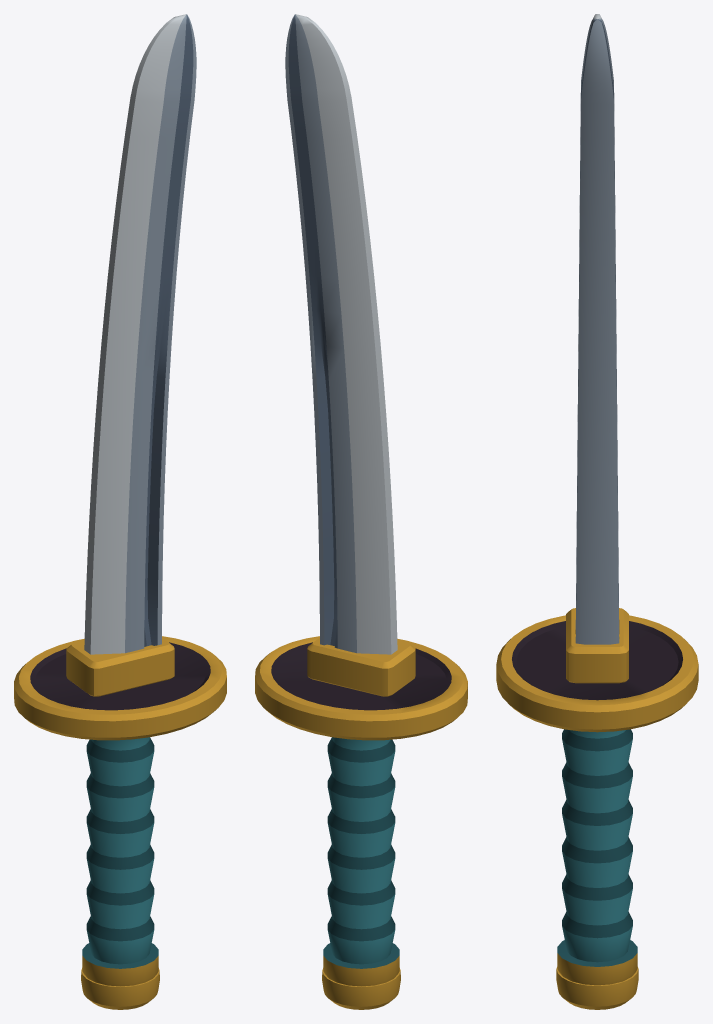
File: Katana_22.glb
The picture shows the model from 3 angles, left to right: view 1: azimuth 30°, elevation 25°; view 2: azimuth 150°, elevation 25°; view 3: azimuth 270°, elevation 25°; orthographic projection. The views are drawn at different scales.
Visible parts, largest first — view 1: Katana_22; view 2: Katana_22; view 3: Katana_22.
Part boxes in pixels (bbox=[...]): Katana_22: bbox=[14, 14, 226, 1009]; Katana_22: bbox=[255, 14, 467, 1009]; Katana_22: bbox=[496, 14, 698, 1009].
Bounding box in the file's own units: 1.32 × 6.41 × 1.16.
